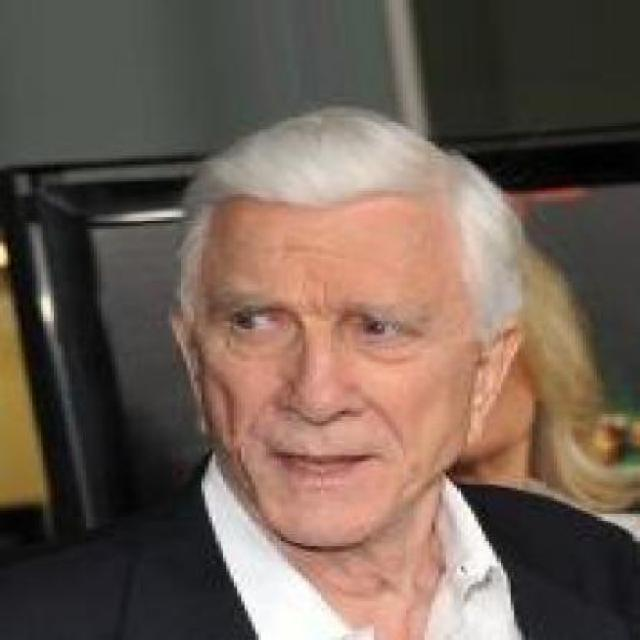closed-mouth: (263, 440, 369, 478)
